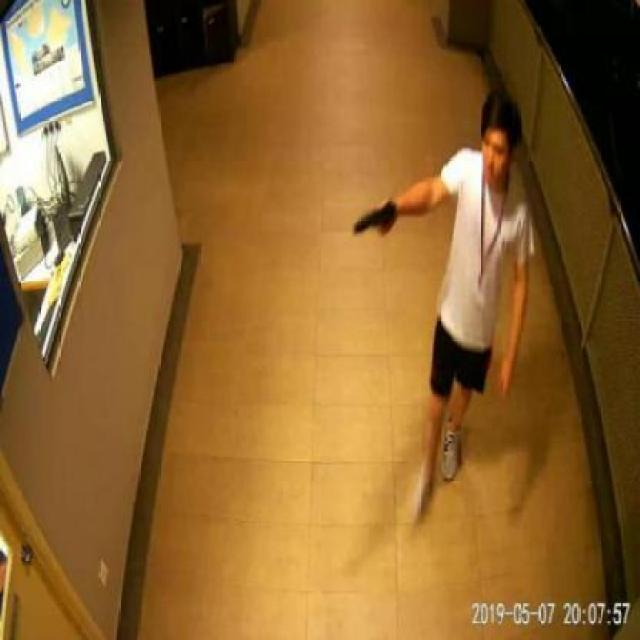gun: (350, 194, 396, 238)
